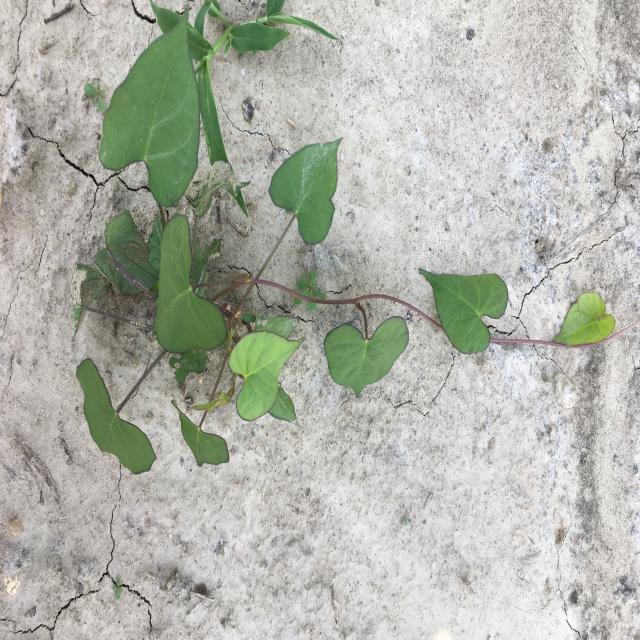Carpetweed: (293, 268, 326, 312), (84, 82, 106, 112)
MorningGlory: (70, 7, 616, 474)
